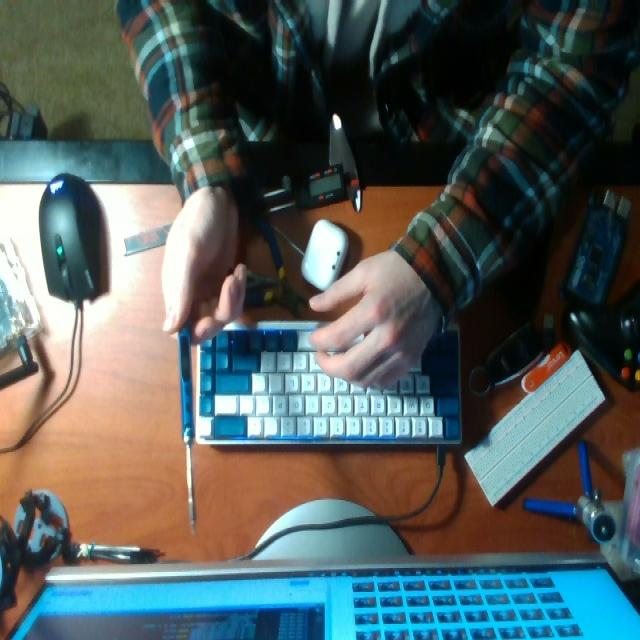keyboard-with-hands: (198, 323, 464, 441)
